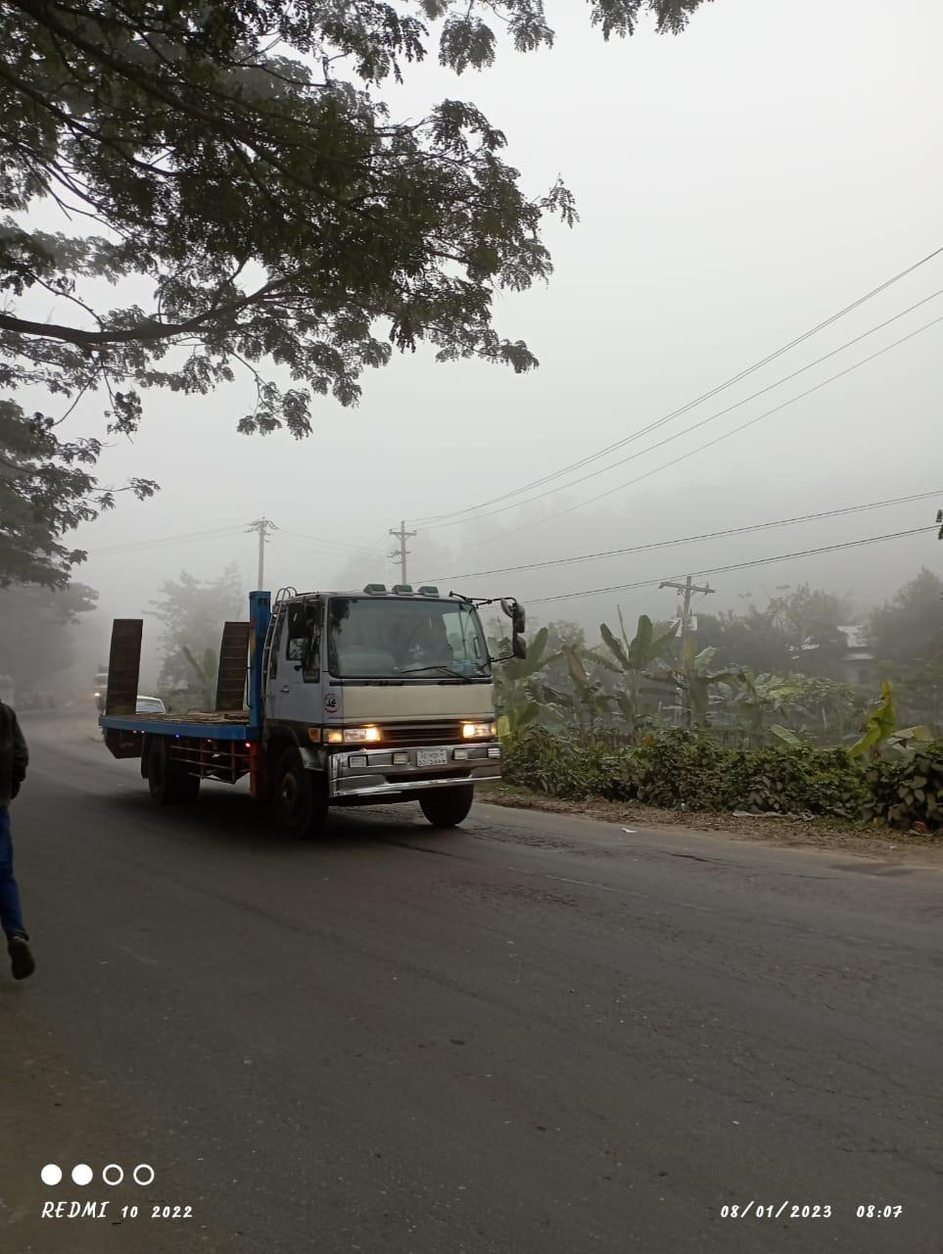Truck: (98, 568, 521, 826)
